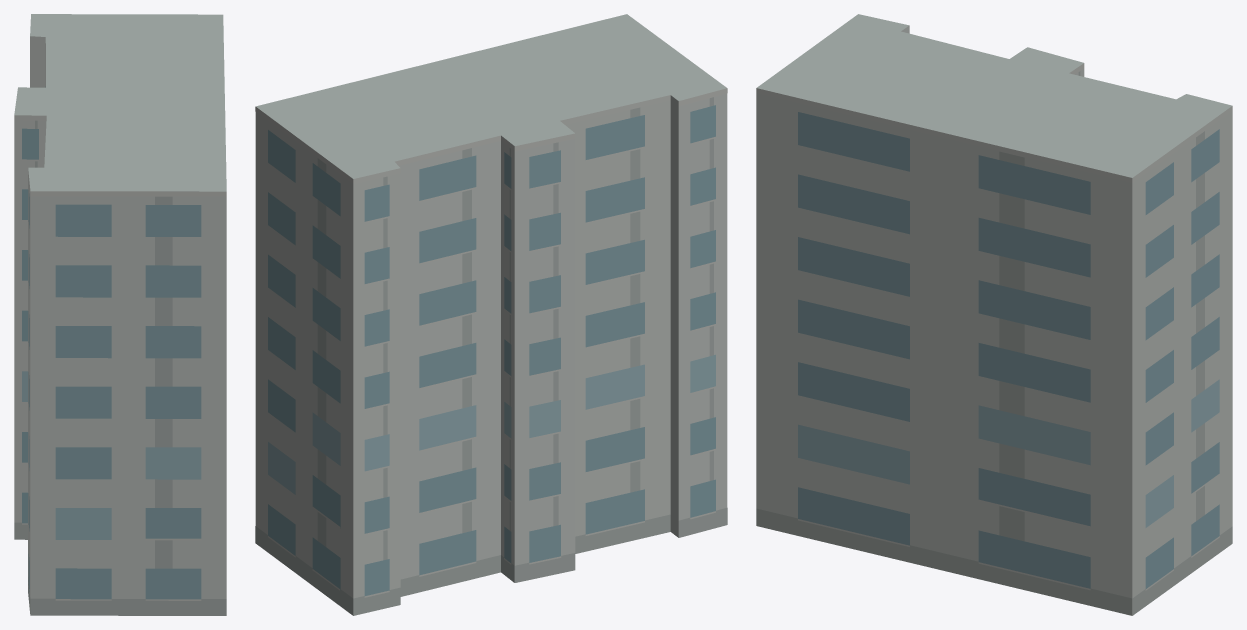
File: survey-upis-32679405.glb
The picture shows the model from 3 angles, left to right: view 1: azimuth 30°, elevation 25°; view 2: azimuth 150°, elevation 25°; view 3: azimuth 270°, elevation 25°; orthographic projection. The views are drawn at different scales.
Parts seen in each view (by area): view 1: survey-upis-32679405.tmp; view 2: survey-upis-32679405.tmp; view 3: survey-upis-32679405.tmp.
Boxes of the visible parts, x1,y1,x2,y2 form: survey-upis-32679405.tmp: [14, 14, 226, 615]; survey-upis-32679405.tmp: [255, 14, 727, 615]; survey-upis-32679405.tmp: [756, 14, 1232, 615].
Size of the model in its own units: 15.99 by 19.9 by 19.62.
